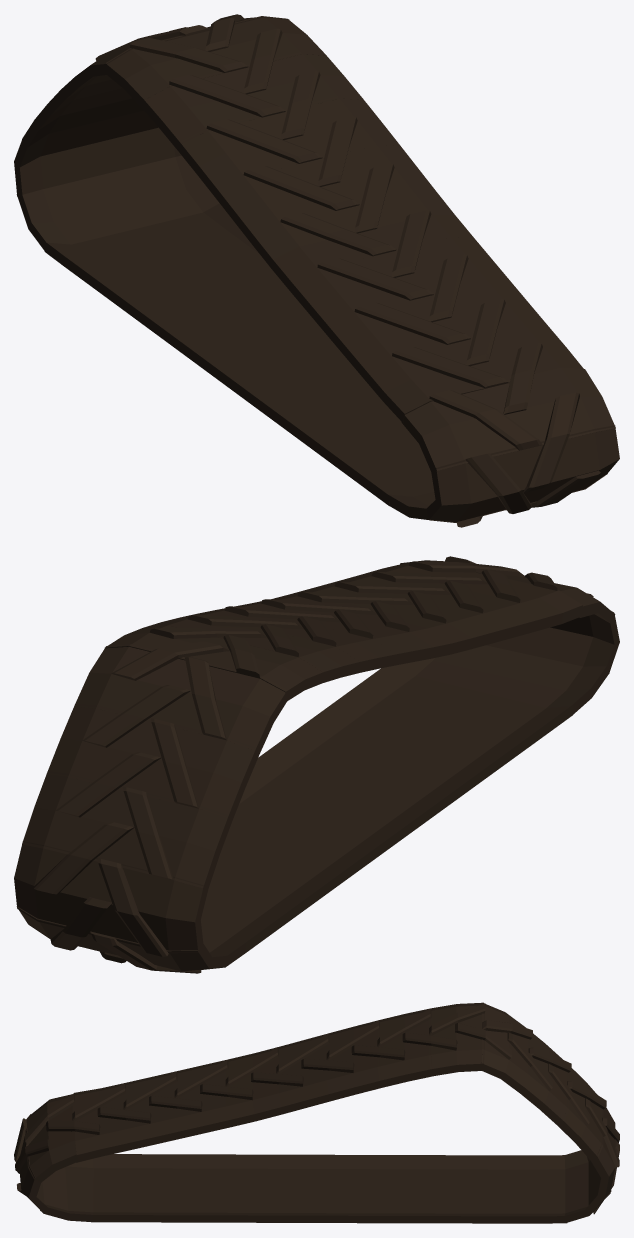
The model's file is track.glb.
The picture shows the model from 3 angles, top to bottom: view 1: azimuth 30°, elevation 25°; view 2: azimuth 150°, elevation 25°; view 3: azimuth 270°, elevation 25°; orthographic projection. The views are drawn at different scales.
Parts seen in each view (by area): view 1: Track; view 2: Track; view 3: Track.
Boxes of the visible parts, x1,y1,x2,y2 form: Track: (14, 14, 619, 527); Track: (14, 556, 619, 973); Track: (14, 1002, 619, 1223).
Bounding box in the file's own units: 0.9371 × 1.26 × 3.88.
1 material, 1 textured.
